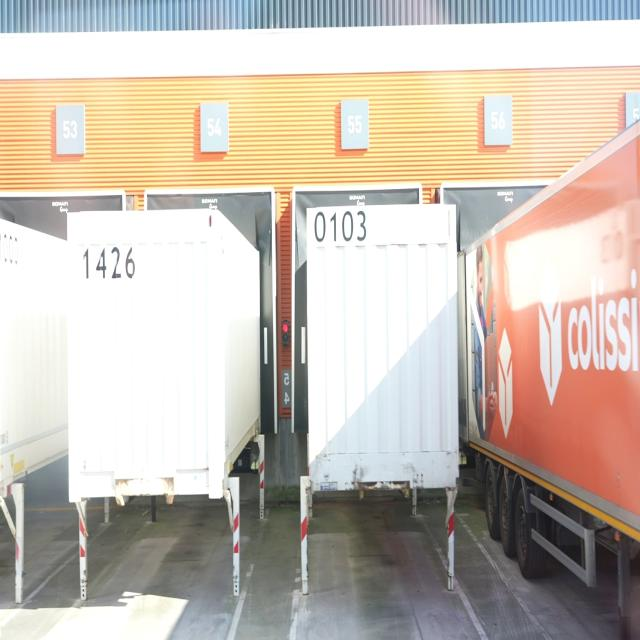Code: (80, 238, 142, 286), (310, 207, 369, 250)
